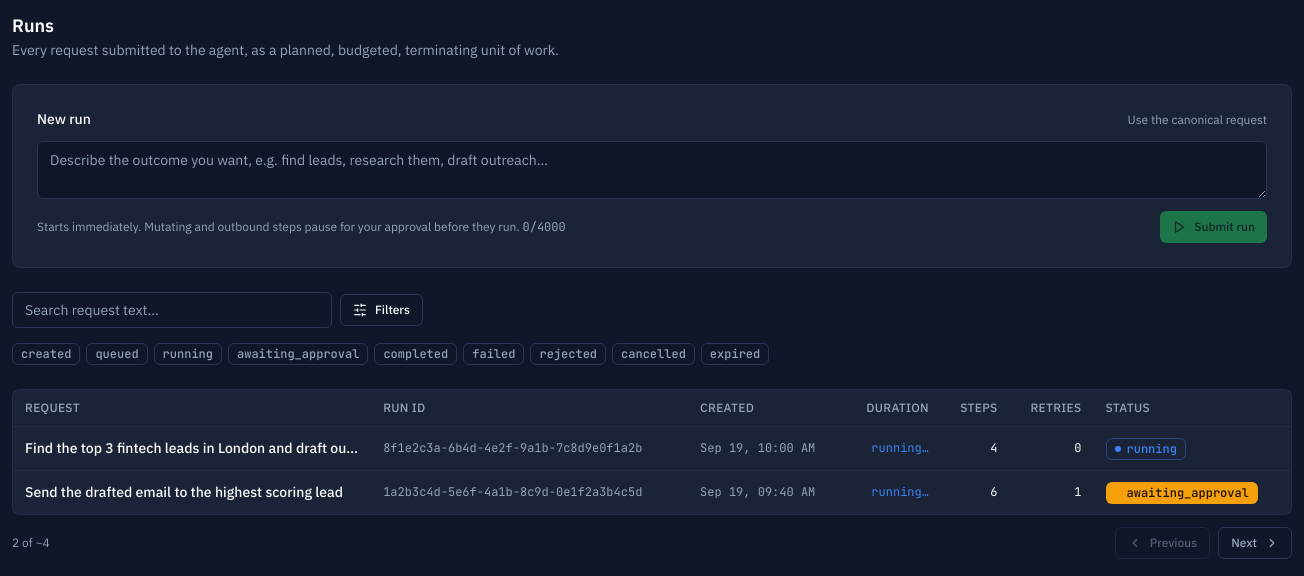
Scenario: RunsPage › pages forward using the server's next_cursor, never a client-computed offset
Expected: the table is shown, [13,390,1291,514]
Click the button "Next" at point(1255, 542), box [1218,526,1292,558]
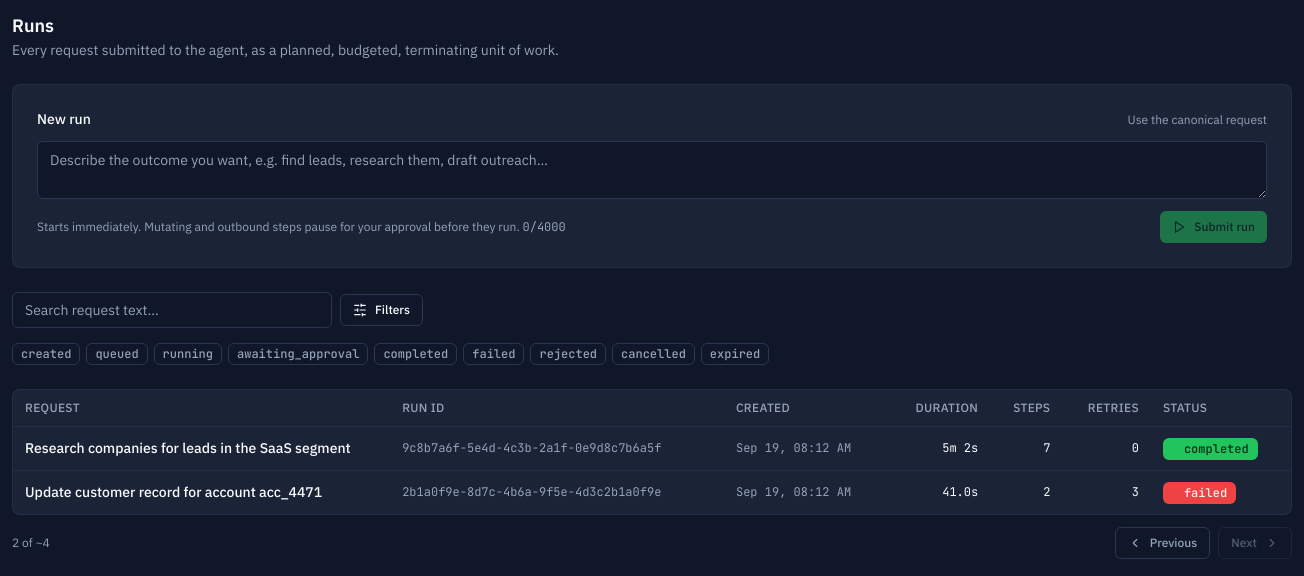
Expected: the text "Research companies for leads in the SaaS segment" is shown, [13,426,390,470]
